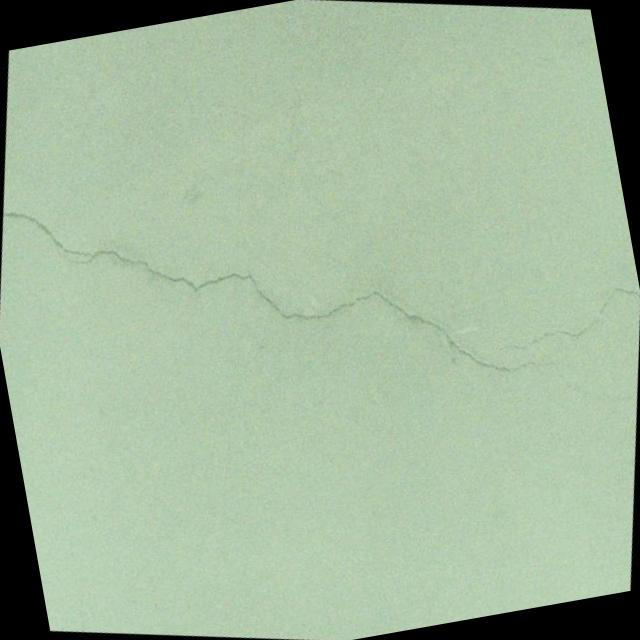crack: (0, 114, 599, 473), (485, 258, 640, 379)
